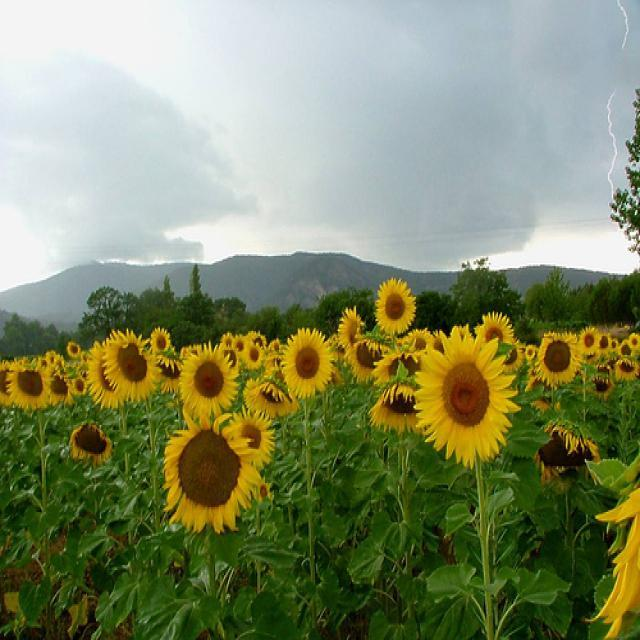sunflower: (414, 328, 521, 468), (162, 409, 260, 534), (586, 488, 640, 640), (178, 341, 238, 420), (280, 327, 333, 396), (101, 329, 152, 400), (229, 404, 277, 469), (373, 278, 416, 338), (535, 329, 580, 386), (368, 384, 420, 432), (243, 377, 300, 420), (344, 334, 391, 384), (532, 442, 582, 488), (86, 342, 119, 408), (546, 422, 605, 458), (12, 357, 50, 410), (66, 423, 112, 466), (371, 352, 423, 382), (478, 312, 514, 349), (335, 303, 362, 349), (526, 376, 562, 410), (152, 355, 182, 393), (0, 358, 22, 404), (48, 370, 74, 408), (218, 341, 241, 373), (408, 327, 434, 353), (324, 336, 350, 362), (253, 474, 276, 503), (616, 354, 638, 382), (578, 326, 598, 356), (242, 342, 264, 369), (501, 346, 521, 373), (150, 327, 170, 351), (70, 373, 86, 398), (265, 354, 288, 371), (248, 331, 265, 352), (451, 324, 472, 341), (266, 368, 287, 385), (430, 329, 445, 352), (596, 378, 614, 397), (232, 334, 248, 355), (66, 339, 81, 360), (599, 358, 612, 379), (327, 366, 342, 384), (600, 335, 612, 356), (220, 331, 235, 347), (628, 333, 640, 350), (268, 336, 280, 352), (53, 354, 65, 368), (620, 338, 630, 354), (46, 350, 56, 363), (525, 344, 533, 360), (610, 338, 618, 351)
